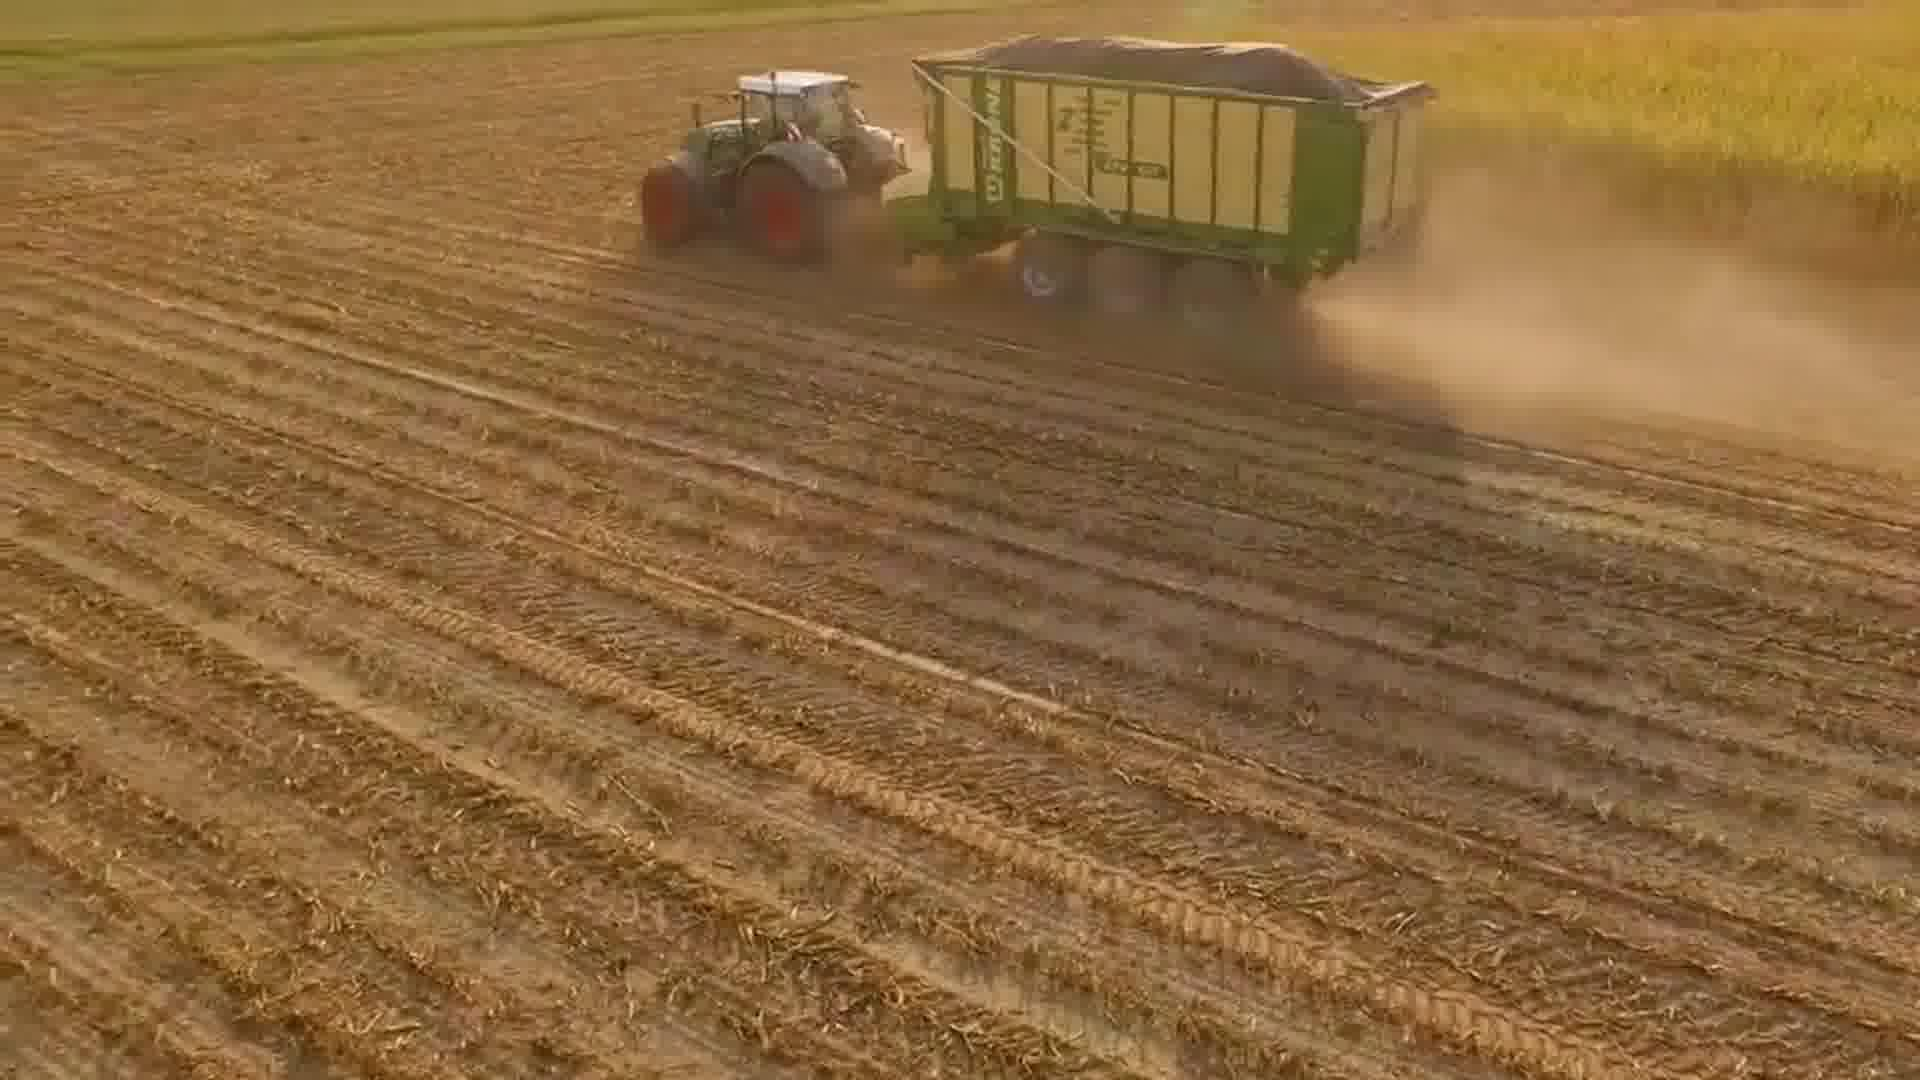tractor: (621, 50, 904, 276)
trailer: (883, 20, 1441, 361)
